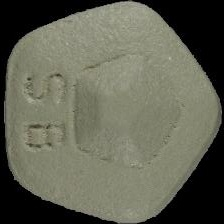0007-4892: (0, 0, 224, 224)
